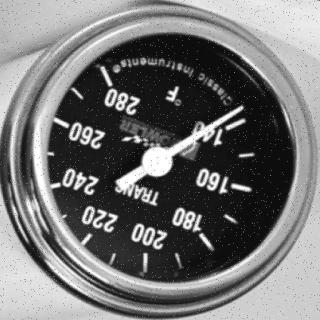gauge: (1, 1, 318, 318), (86, 54, 123, 90), (229, 100, 262, 140), (140, 146, 174, 178), (232, 100, 248, 118)
